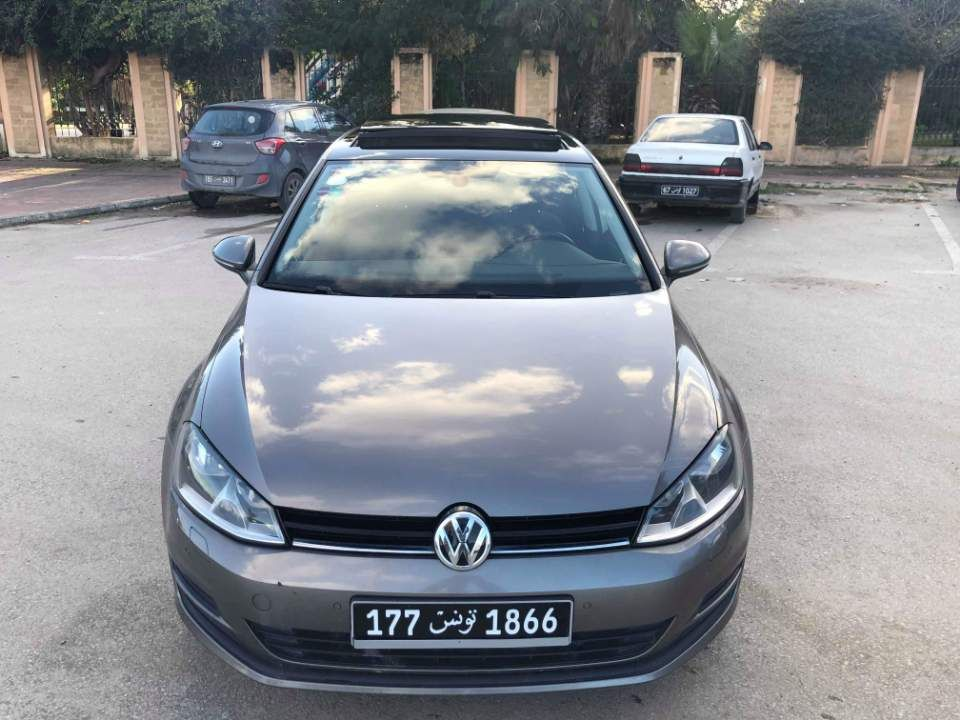LP: (349, 594, 574, 649)
